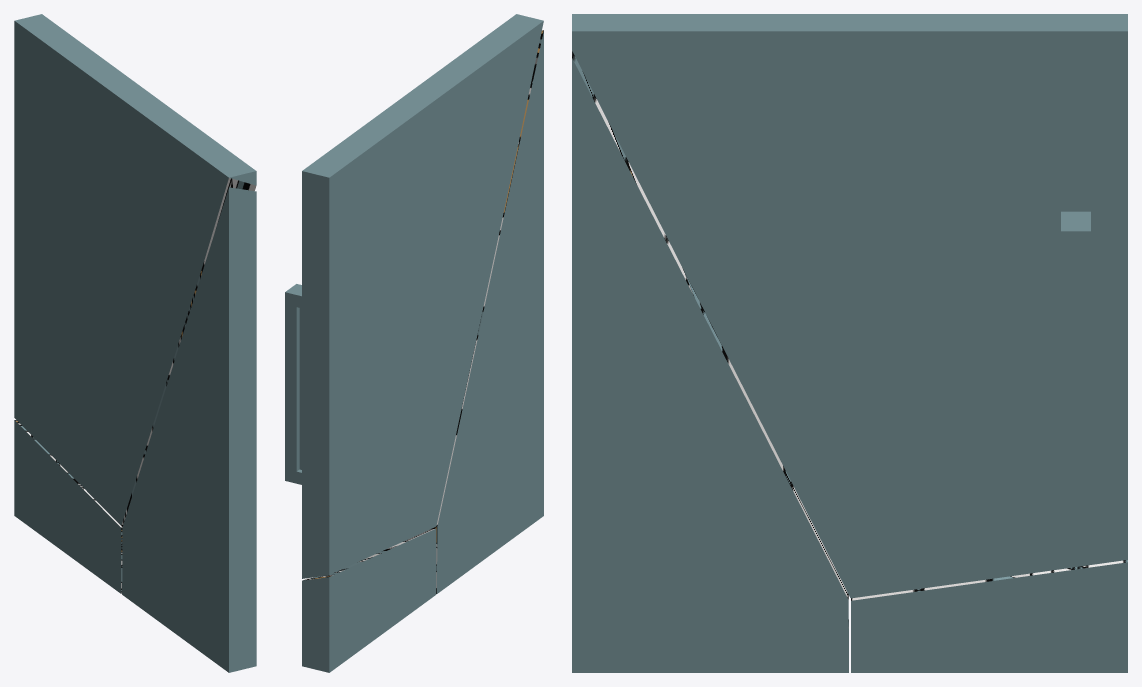
Rendered from Cabinet_Big_Door.000_cell.fbx.
3 renders of one model, left to right at view 1: azimuth 30°, elevation 25°; view 2: azimuth 150°, elevation 25°; view 3: azimuth 270°, elevation 25°, orthographic. The views are drawn at different scales.
Visible parts, largest first — view 1: Cabinet_Big_Door.000_cell.002, Cabinet_Big_Door.000_cell.001, Cabinet_Big_Door.000_cell; view 2: Cabinet_Big_Door.000_cell.002, Cabinet_Big_Door.000_cell.001, Cabinet_Big_Door.000_cell, Cabinet_Big_Door.000_cell.003; view 3: Cabinet_Big_Door.000_cell.002, Cabinet_Big_Door.000_cell.001, Cabinet_Big_Door.000_cell, Cabinet_Big_Door.000_cell.003.
Boxes of the visible parts, bbox=[...] form: Cabinet_Big_Door.000_cell.002: bbox=[14, 14, 256, 526]; Cabinet_Big_Door.000_cell.001: bbox=[122, 187, 256, 672]; Cabinet_Big_Door.000_cell: bbox=[14, 420, 122, 593]; Cabinet_Big_Door.000_cell.002: bbox=[302, 14, 543, 578]; Cabinet_Big_Door.000_cell.001: bbox=[431, 30, 543, 593]; Cabinet_Big_Door.000_cell: bbox=[302, 528, 436, 672]; Cabinet_Big_Door.000_cell.003: bbox=[285, 284, 301, 484]; Cabinet_Big_Door.000_cell.002: bbox=[572, 14, 1127, 598]; Cabinet_Big_Door.000_cell.001: bbox=[572, 51, 848, 672]; Cabinet_Big_Door.000_cell: bbox=[851, 560, 1127, 672]; Cabinet_Big_Door.000_cell.003: bbox=[1061, 211, 1090, 475].
Size of the model in its own units: 7.35 by 59.29 by 46.56.
